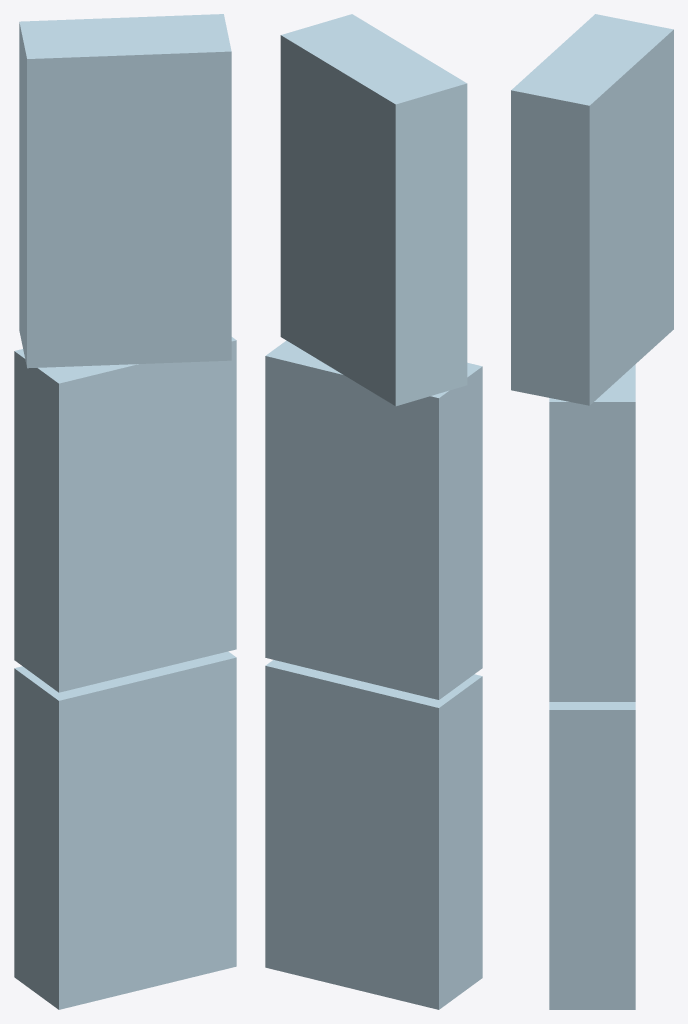
The model's file is boiboites [29].gltf.
3 renders of one model, left to right at view 1: azimuth 30°, elevation 25°; view 2: azimuth 150°, elevation 25°; view 3: azimuth 270°, elevation 25°, orthographic. The views are drawn at different scales.
Parts seen in each view (by area): view 1: Part 1 (×3); view 2: Part 1 (×3); view 3: Part 1 (×3).
Part boxes in pixels (x1,y1,x2,y2): Part 1 (×3): (14, 14, 236, 1009); Part 1 (×3): (265, 14, 482, 1009); Part 1 (×3): (511, 14, 673, 1009).
Size of the model in its own units: 0.0767 by 0.3538 by 0.0575.
